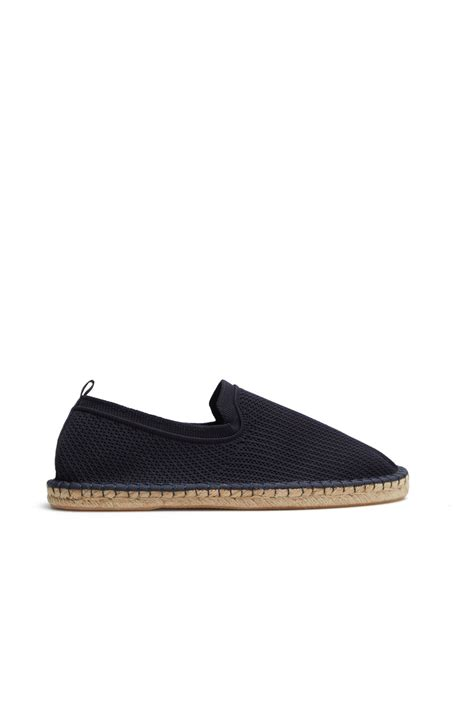nylon: (49, 378, 408, 487)
